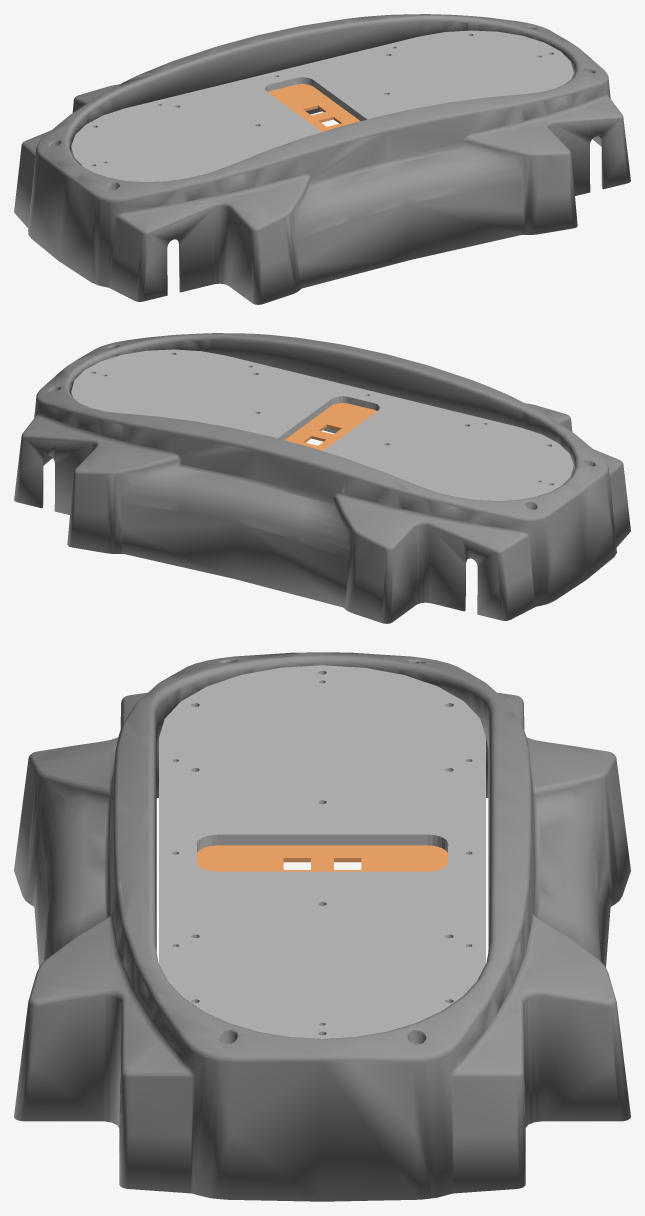
Rendered from base_frame.dae.
3 renders of one model, top to bottom at view 1: azimuth 30°, elevation 25°; view 2: azimuth 150°, elevation 25°; view 3: azimuth 270°, elevation 25°, orthographic. The views are drawn at different scales.
Parts seen in each view (by area): view 1: base_frame; view 2: base_frame; view 3: base_frame.
Boxes of the visible parts, x1,y1,x2,y2 form: base_frame: [14, 14, 630, 304]; base_frame: [14, 333, 630, 623]; base_frame: [14, 652, 630, 1201].
Bounding box in the file's own units: 0.5701 × 0.3571 × 0.122.
